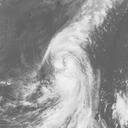cyclone: (47, 36, 99, 113)
